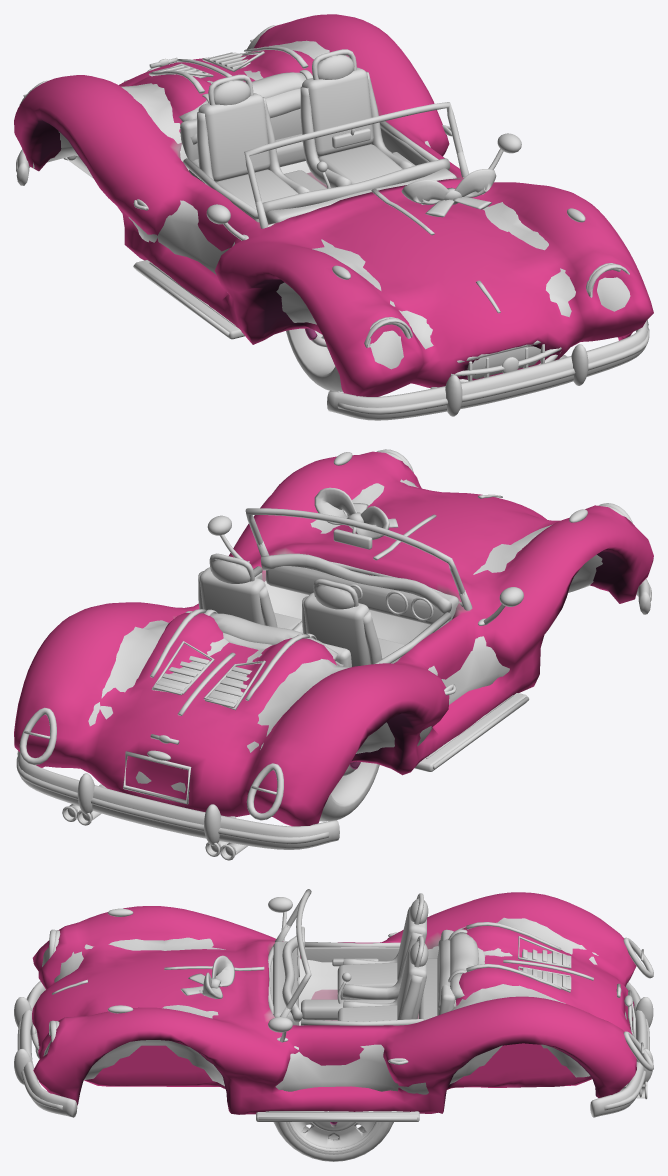
File: star-racer-7.glb
3 renders of one model, top to bottom at view 1: azimuth 30°, elevation 25°; view 2: azimuth 150°, elevation 25°; view 3: azimuth 270°, elevation 25°, orthographic. The views are drawn at different scales.
Visible parts, largest first — view 1: CarBody, CreamInterior, ChromeTrim, CarBodyShadow, PlumTrim, HoodBow, WheelTire; view 2: CarBody, ChromeTrim, CreamInterior, CarBodyShadow, PlumTrim, HoodBow, WheelTire; view 3: CarBody, ChromeTrim, CarBodyShadow, CreamInterior, PlumTrim, WheelRimPink, HoodBow, WheelWhitewall, WheelTire, WheelChrome.
Boxes of the visible parts, x1,y1,x2,y2 form: CarBody: [14, 14, 653, 396]; CreamInterior: [179, 55, 456, 223]; ChromeTrim: [16, 25, 648, 420]; CarBodyShadow: [32, 40, 630, 379]; PlumTrim: [16, 49, 649, 414]; HoodBow: [401, 169, 496, 217]; WheelTire: [286, 328, 342, 392]; CarBody: [14, 451, 653, 826]; ChromeTrim: [17, 449, 650, 860]; CreamInterior: [185, 554, 458, 667]; CarBodyShadow: [88, 479, 602, 792]; PlumTrim: [16, 553, 651, 855]; HoodBow: [314, 487, 398, 539]; WheelTire: [319, 762, 379, 821]; CarBody: [32, 892, 636, 1114]; ChromeTrim: [14, 889, 653, 1120]; CarBodyShadow: [42, 917, 626, 1094]; CreamInterior: [273, 898, 485, 1025]; PlumTrim: [17, 893, 649, 1121]; WheelRimPink: [292, 1122, 375, 1148]; HoodBow: [181, 955, 234, 998]; WheelWhitewall: [277, 1122, 389, 1161]; WheelTire: [273, 1122, 393, 1161]; WheelChrome: [289, 1122, 378, 1151].
Size of the model in its own units: 2.39 by 1.94 by 4.69.
